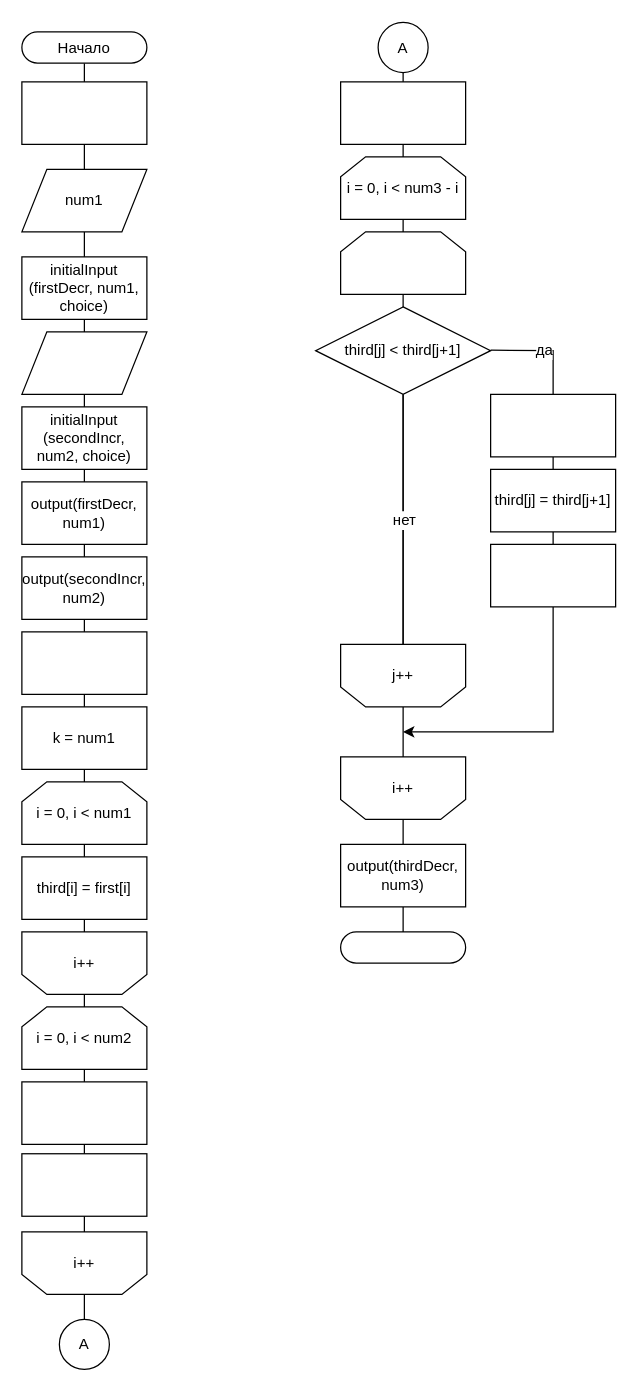
Image size: 638x1391. Some labels were removed from this diagram. The shapes that lost their labels are listed below. From the top down, each one's centre as x and y in pixels, then its label:
(x=84, y=112): firstDecr[100], secondIncr[100], thirdDecr[200], num1, num2, num3, choice
(x=402, y=112): temp
(x=402, y=262): j = 0, j < num3 - i - 1
(x=84, y=362): num2
(x=552, y=425): temp = third[j]
(x=552, y=575): third[j+1] = temp
(x=84, y=662): num3 = num1+num2
(x=402, y=947): Конец
(x=84, y=1112): third[k] = second[i]
(x=84, y=1184): k++
